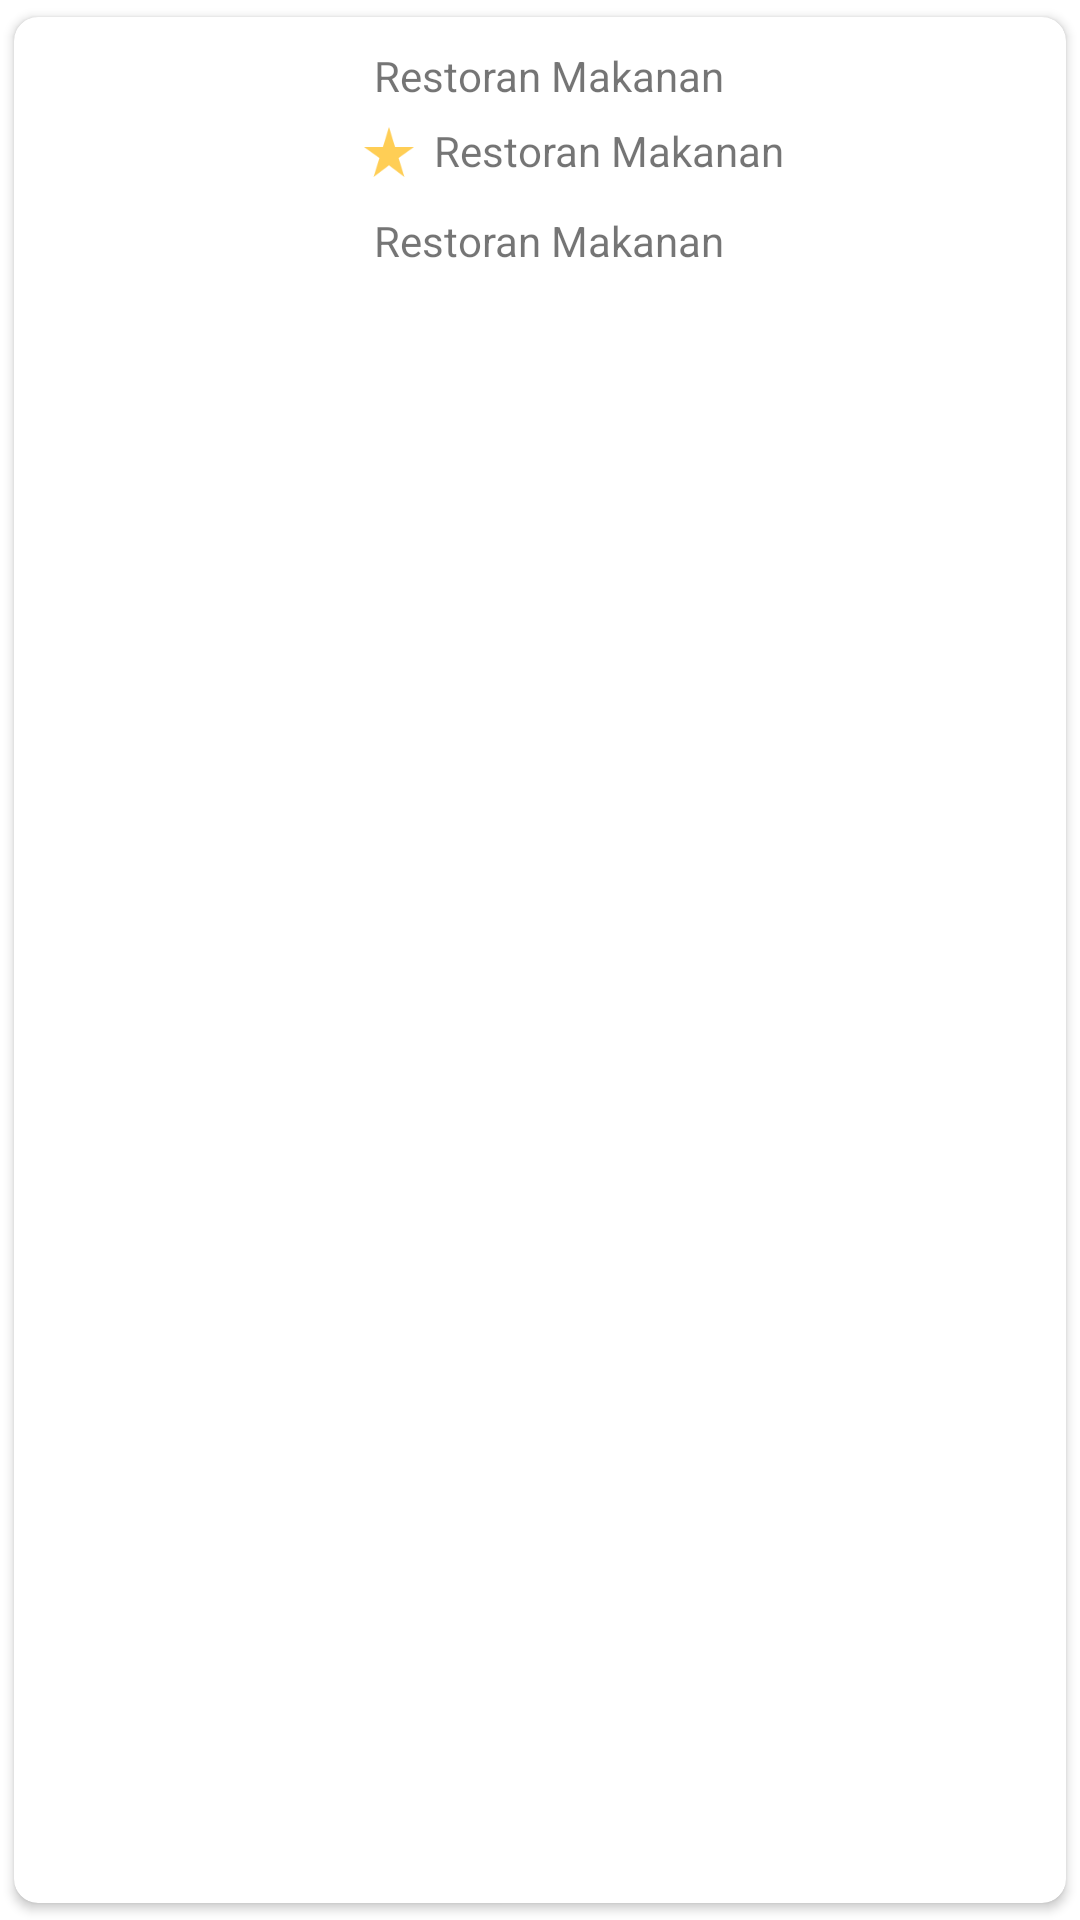

Icons on this 1080×1920 Android screen, each with its box as (left=x1, top=y1, right=x2, bottom=y2):
star rate: (left=364, top=127, right=414, bottom=177)
